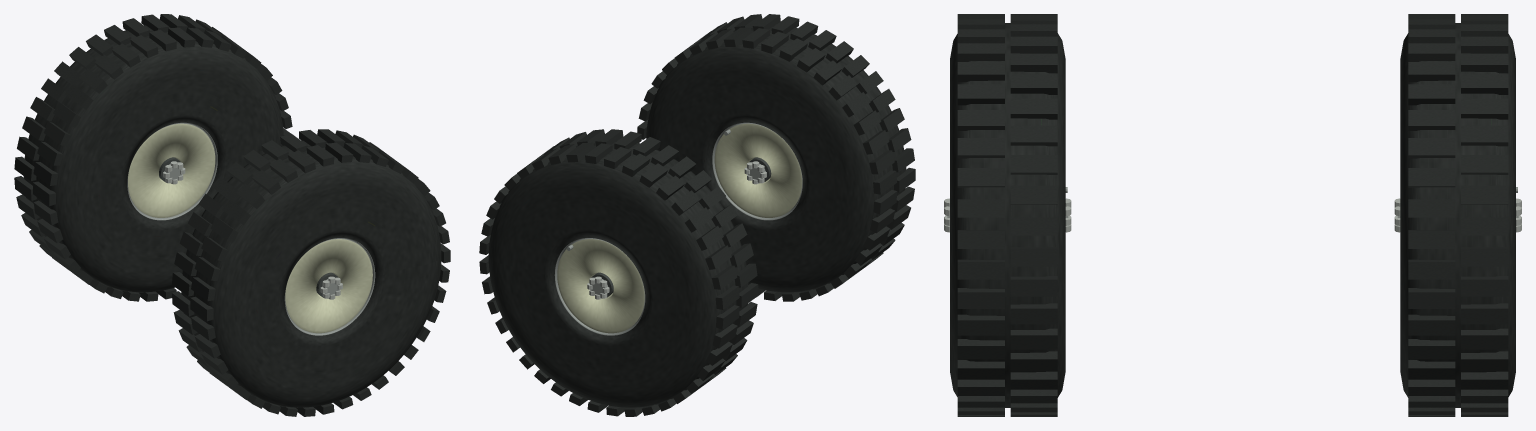
Rendered from PZ_FIELDWARD_75D_Rear_Wheels.glb.
3 renders of one model, left to right at view 1: azimuth 30°, elevation 25°; view 2: azimuth 150°, elevation 25°; view 3: azimuth 270°, elevation 25°, orthographic. The views are drawn at different scales.
Parts seen in each view (by area): view 1: REAR_R__Tire_Sidewall_Tread_Watertight, REAR_L__Tire_Sidewall_Tread_Watertight, REAR_R__Staggered_Directional_TreadLugs, REAR_L__Staggered_Directional_TreadLugs, REAR_L__Pressed_White_Rim, REAR_R__Pressed_White_Rim, REAR_R__Rim_Bead_Rings, REAR_L__Rim_Bead_Rings; view 2: REAR_L__Tire_Sidewall_Tread_Watertight, REAR_R__Tire_Sidewall_Tread_Watertight, REAR_L__Staggered_Directional_TreadLugs, REAR_R__Staggered_Directional_TreadLugs, REAR_L__Pressed_White_Rim, REAR_R__Pressed_White_Rim, REAR_L__Rim_Bead_Rings, REAR_R__Rim_Bead_Rings; view 3: REAR_R__Staggered_Directional_TreadLugs, REAR_L__Staggered_Directional_TreadLugs, REAR_L__Tire_Sidewall_Tread_Watertight, REAR_R__Tire_Sidewall_Tread_Watertight.
Part boxes in pixels (x1,y1,x2,y2): REAR_R__Tire_Sidewall_Tread_Watertight: (181,140,441,407); REAR_L__Tire_Sidewall_Tread_Watertight: (23,25,283,292); REAR_R__Staggered_Directional_TreadLugs: (172,129,450,416); REAR_L__Staggered_Directional_TreadLugs: (14,14,292,301); REAR_L__Pressed_White_Rim: (128,123,215,217); REAR_R__Pressed_White_Rim: (285,239,372,333); REAR_R__Rim_Bead_Rings: (284,238,375,335); REAR_L__Rim_Bead_Rings: (127,122,217,220); REAR_L__Tire_Sidewall_Tread_Watertight: (488,139,748,407); REAR_R__Tire_Sidewall_Tread_Watertight: (646,24,906,292); REAR_L__Staggered_Directional_TreadLugs: (479,129,758,416); REAR_R__Staggered_Directional_TreadLugs: (637,14,915,301); REAR_L__Pressed_White_Rim: (557,239,644,333); REAR_R__Pressed_White_Rim: (714,123,802,217); REAR_L__Rim_Bead_Rings: (554,238,645,335); REAR_R__Rim_Bead_Rings: (712,122,802,220); REAR_R__Staggered_Directional_TreadLugs: (957,14,1057,416); REAR_L__Staggered_Directional_TreadLugs: (1408,14,1508,416); REAR_L__Tire_Sidewall_Tread_Watertight: (1400,23,1515,407); REAR_R__Tire_Sidewall_Tread_Watertight: (950,23,1065,407).
Bounding box in the file's own units: 1.57 × 1.57 × 2.25.
5 materials, 5 textured.
